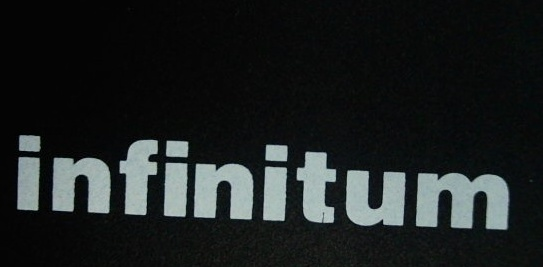BK_infinitum: (11, 130, 513, 235)
